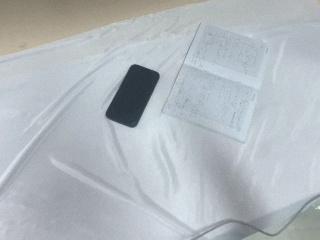phone: (105, 64, 160, 128)
